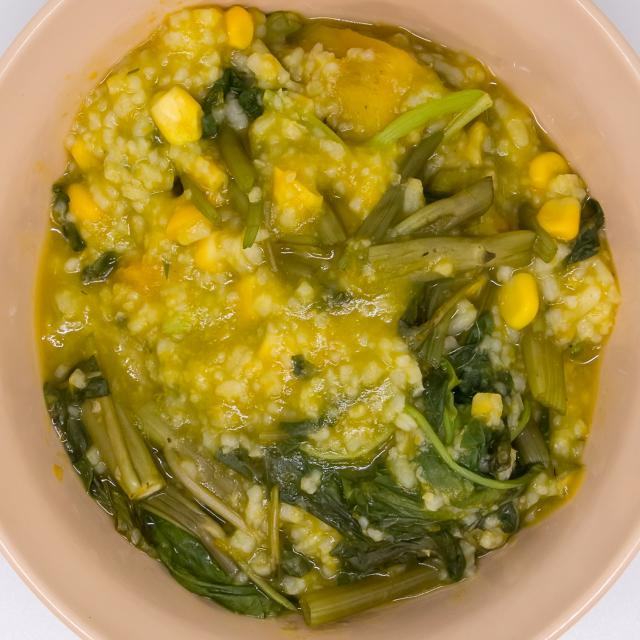Bubur-Manado: (43, 2, 616, 631)
